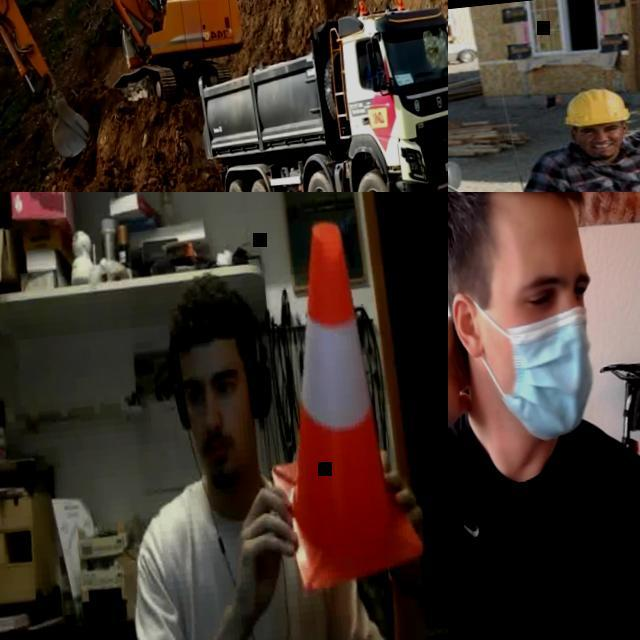helmet: (555, 80, 633, 128)
